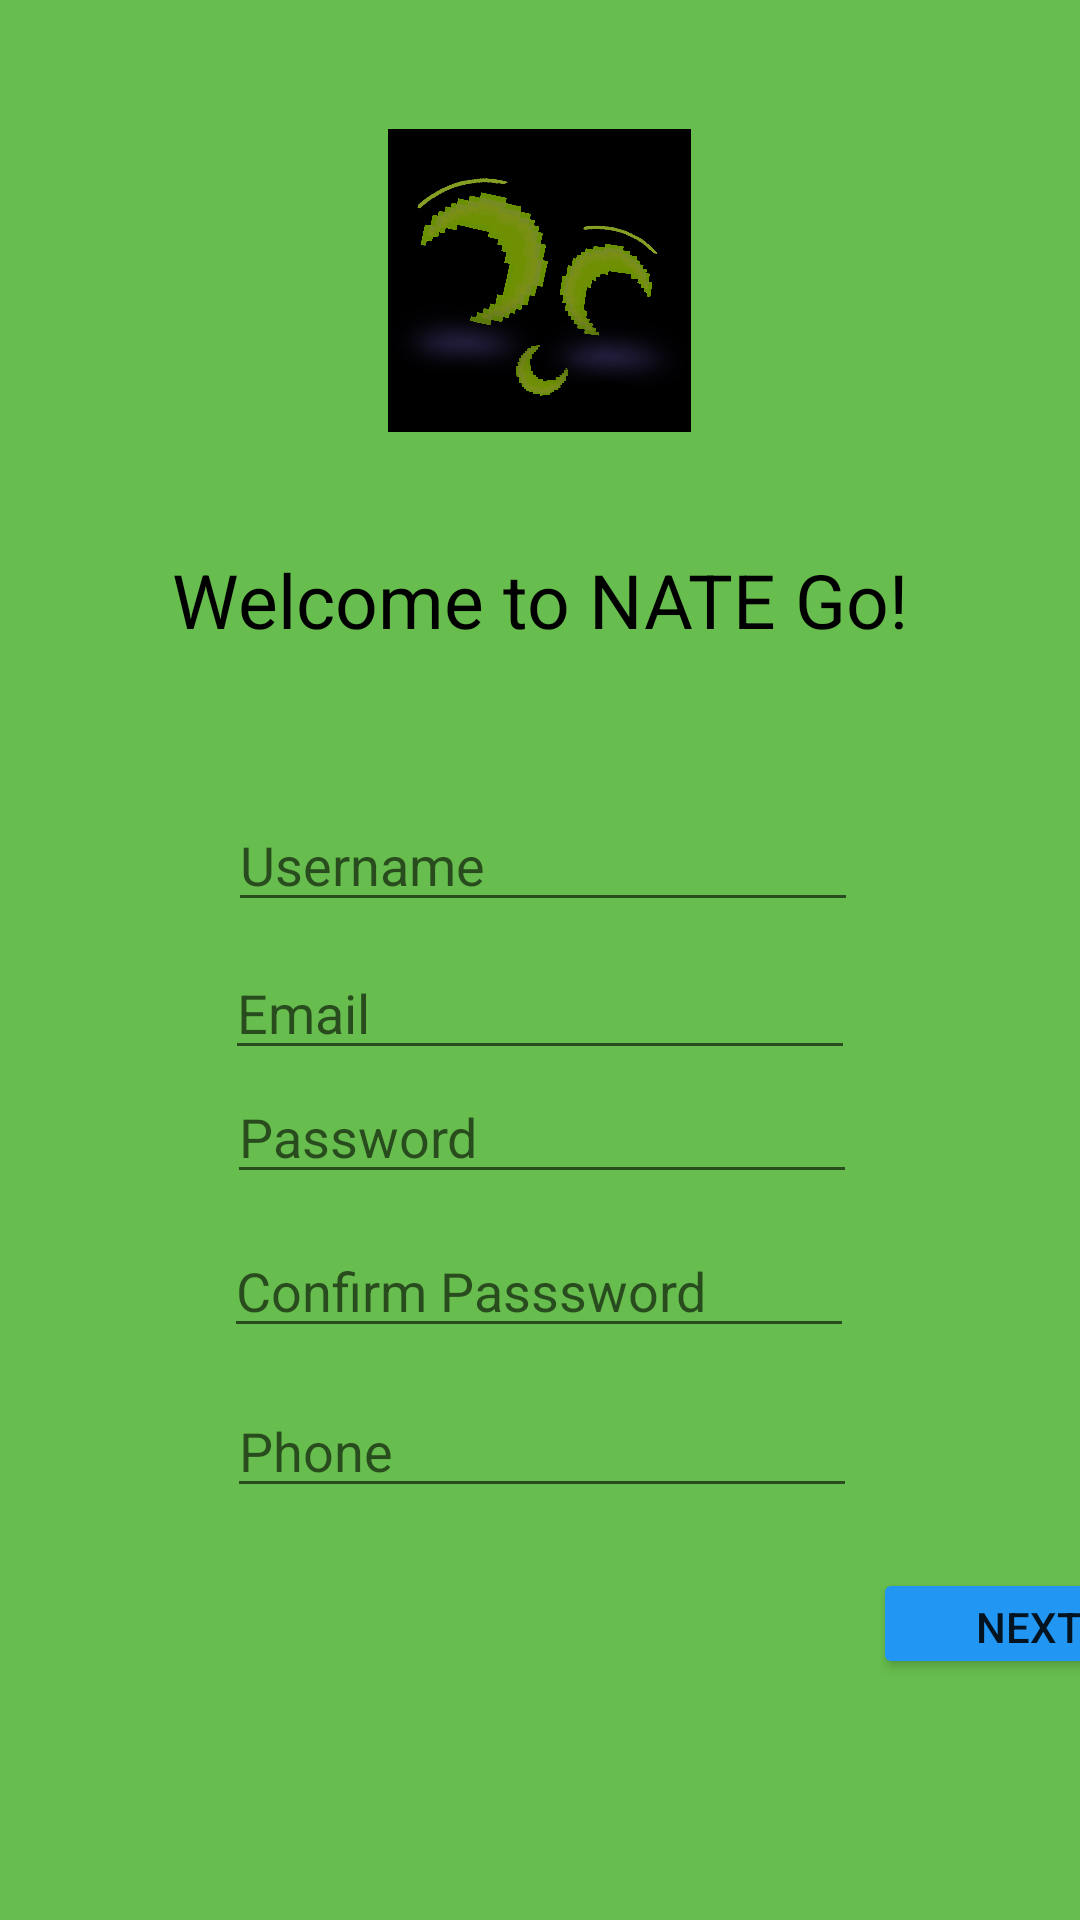

Icons on this 1080 × 1920 Android screen, each with the point to tap as point (x, y):
happy: point (539, 280)
